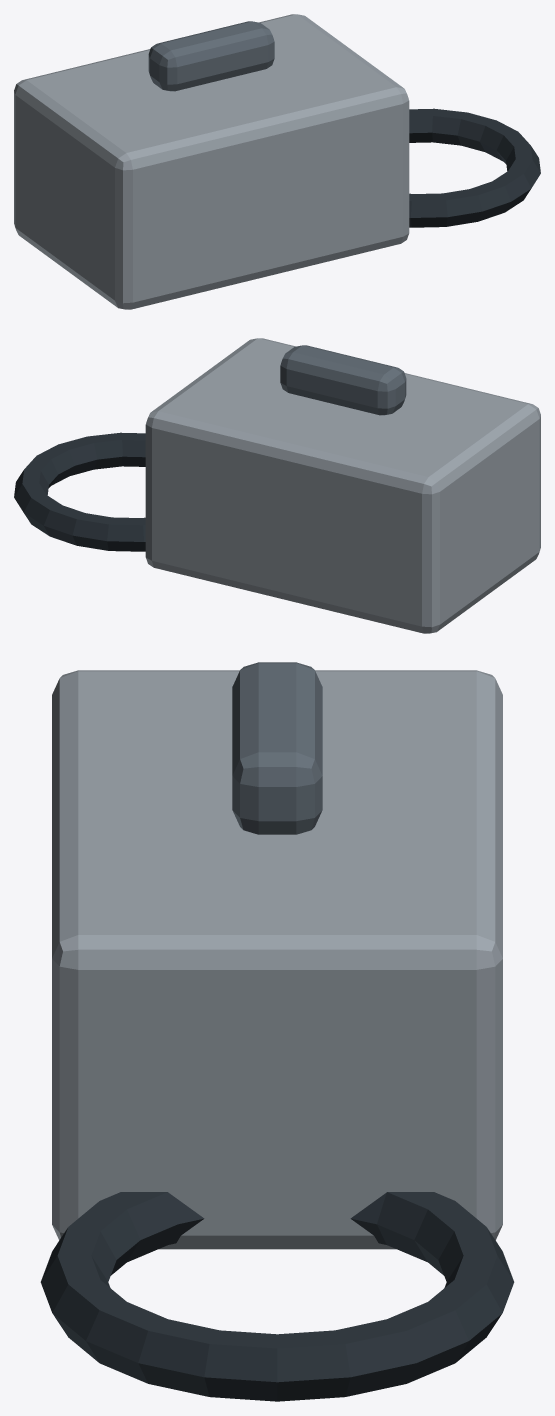
File: 4_Detail.fbx
3 renders of one model, top to bottom at view 1: azimuth 30°, elevation 25°; view 2: azimuth 150°, elevation 25°; view 3: azimuth 270°, elevation 25°, orthographic. The views are drawn at different scales.
Visible parts, largest first — view 1: Body; view 2: Body; view 3: Body.
Part boxes in pixels (bbox=[...]): Body: bbox=[14, 14, 540, 309]; Body: bbox=[14, 338, 540, 633]; Body: bbox=[40, 662, 514, 1401].
Bounding box in the file's own units: 1.41 × 0.6 × 0.63.
